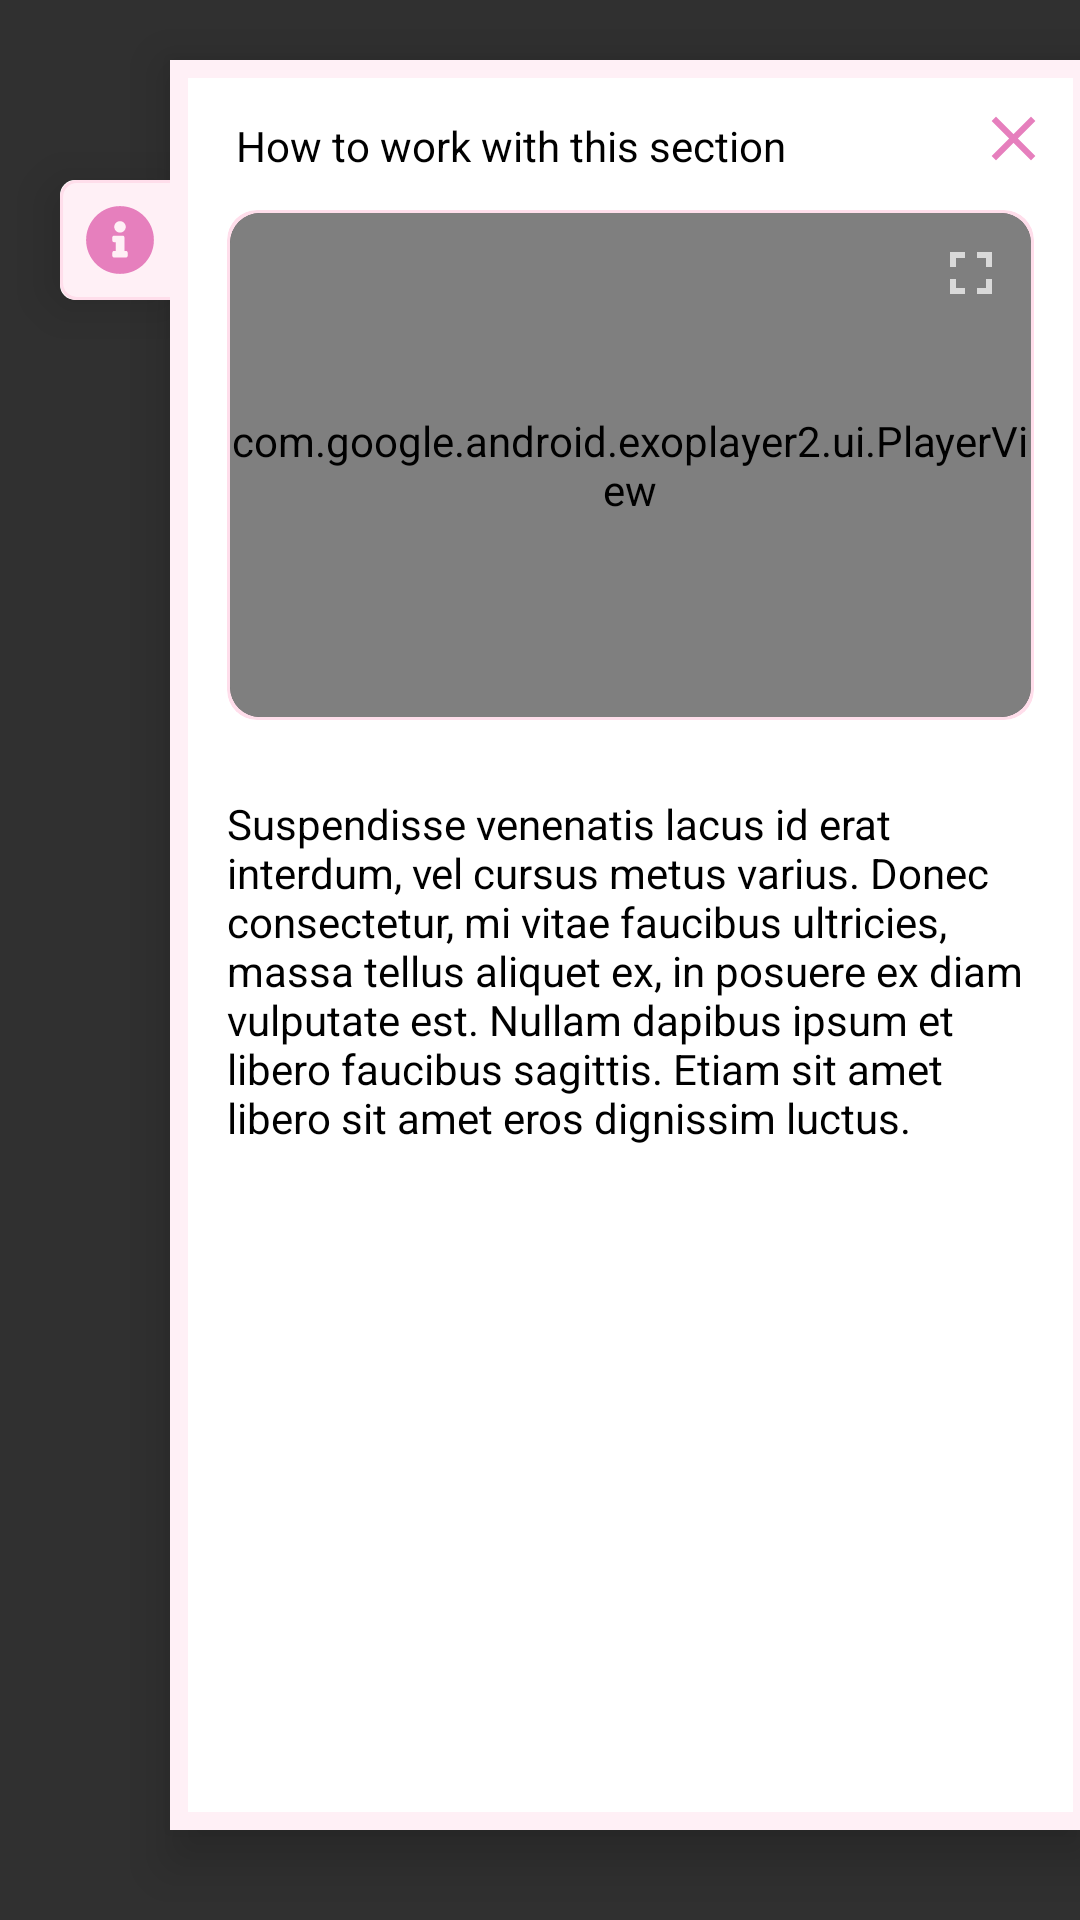

Screen size 1080x1920. Icon name, then its center in pixels as (x=x, y=y):
close: (x=1013, y=138)
